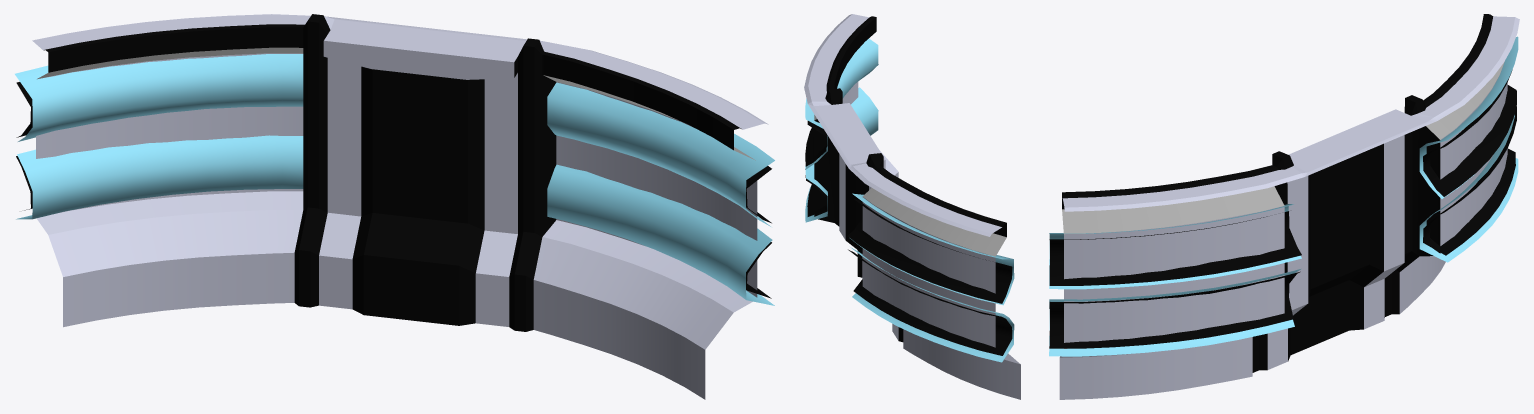
The model's file is Large_Curved_Wall.fbx.
3 renders of one model, left to right at view 1: azimuth 30°, elevation 25°; view 2: azimuth 150°, elevation 25°; view 3: azimuth 270°, elevation 25°, orthographic. The views are drawn at different scales.
Parts seen in each view (by area): view 1: Large_Curved_Wall_GEO, Curved_Pipe_Inlay_GEO; view 2: Large_Curved_Wall_GEO, Curved_Pipe_Inlay_GEO; view 3: Large_Curved_Wall_GEO, Curved_Pipe_Inlay_GEO.
Boxes of the visible parts, <box> form: Large_Curved_Wall_GEO: <box>32,14,768,399</box>; Curved_Pipe_Inlay_GEO: <box>15,54,774,305</box>; Large_Curved_Wall_GEO: <box>804,14,1020,399</box>; Curved_Pipe_Inlay_GEO: <box>805,38,1014,362</box>; Large_Curved_Wall_GEO: <box>1059,14,1519,399</box>; Curved_Pipe_Inlay_GEO: <box>1049,36,1518,356</box>.
Size of the model in its own units: 1231 by 657 by 1231.
